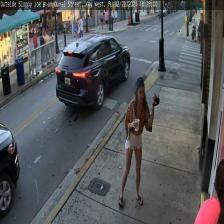person: (118, 76, 157, 206)
